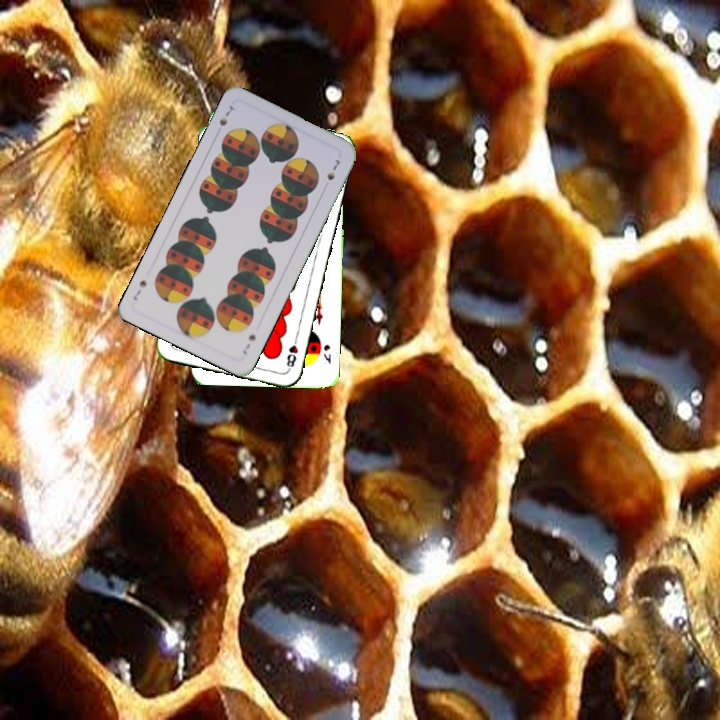H8: (282, 332, 300, 372)
S7: (215, 101, 239, 129), (239, 330, 259, 357)
SK: (319, 340, 333, 366)
